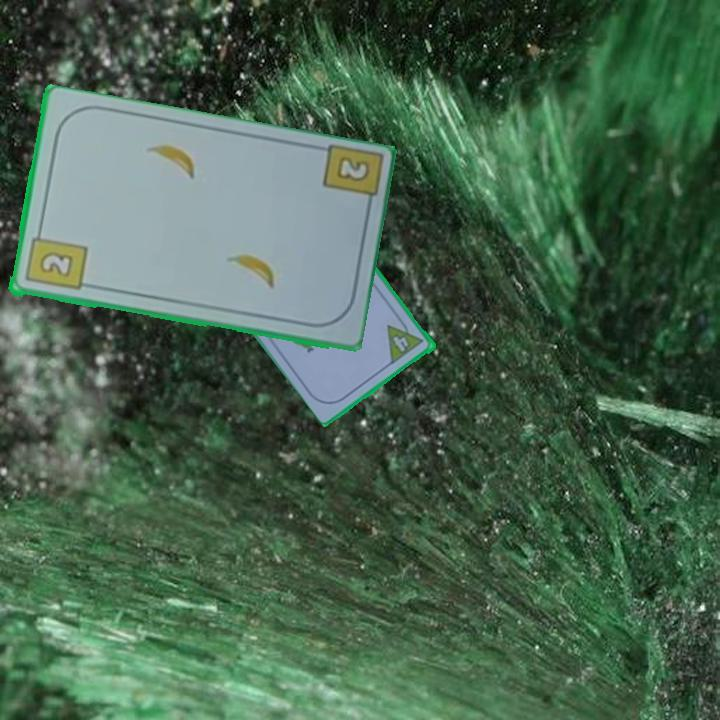2b: (21, 225, 89, 294), (332, 153, 369, 183)
4p: (383, 314, 427, 367)
